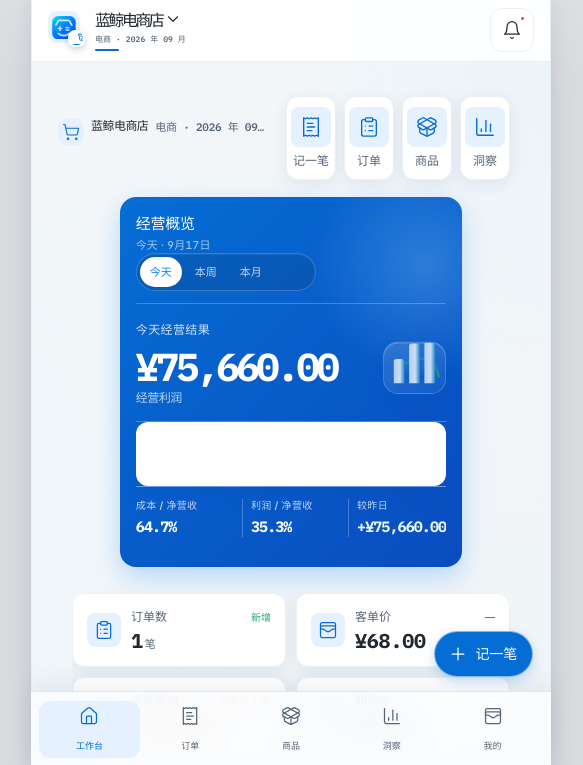
Test: batch-02 关键数据：订单详情 SKU 明细 / 退款金额 / 实际到账 › 订单详情展示 SKU 成交单价、退款金额与手续费、实际到账（成交 − 退款）
Step 1. Click the 2nd button "订单" → (190, 730), box [140, 701, 241, 758]
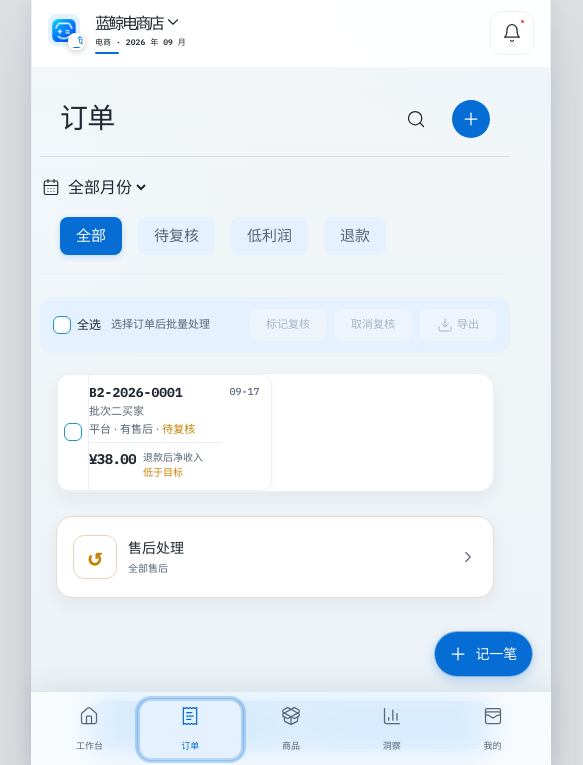
Step 2. Click the button "B2-2026-0001 批次二买家 平台 · 有售后 · 待复核 09-17 ¥38.00 退款后净收入 低于目标" → (179, 432), box [88, 375, 270, 490]
(page scrolled)
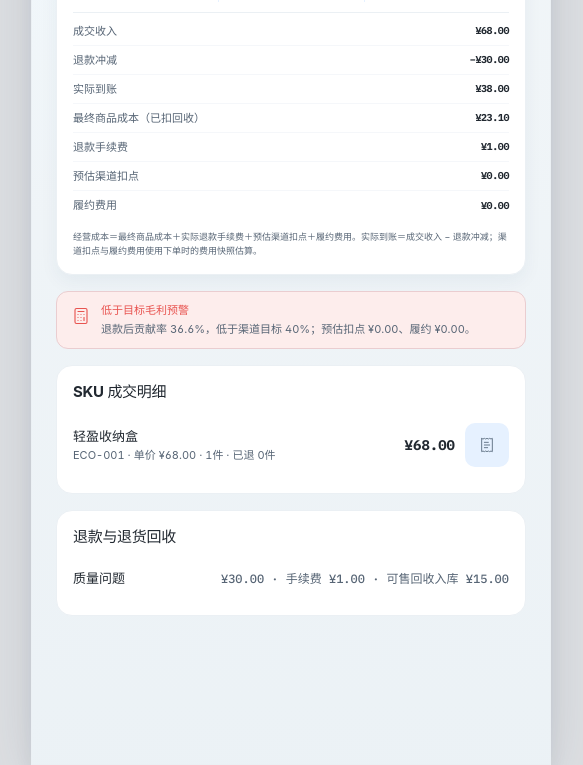
Now the 2nd text "¥38.00" is shown, box [475, 82, 509, 96]
Now the text "ECO-001 · 单价 ¥68.00 · 1件 · 已退 0件" is shown, box [73, 448, 276, 462]
Now the text "质量问题" is shown, box [73, 569, 125, 587]
